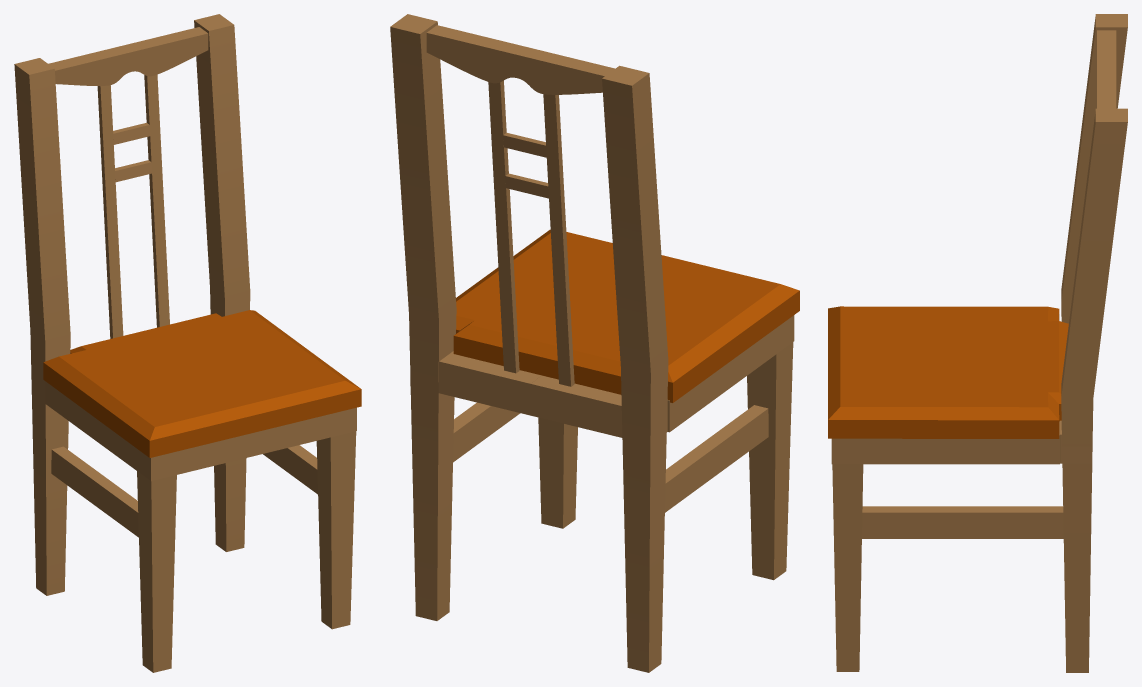
Rendered from chaiseOrange.obj.
3 views of the same model, side by side, from view 1: azimuth 30°, elevation 25°; view 2: azimuth 150°, elevation 25°; view 3: azimuth 270°, elevation 25° (orthographic). The views are drawn at different scales.
Visible parts, largest first — view 1: CHAIRS_SKELETON, CHAIRS_SEAT; view 2: CHAIRS_SKELETON, CHAIRS_SEAT; view 3: CHAIRS_SKELETON, CHAIRS_SEAT.
Boxes of the visible parts, x1,y1,x2,y2 form: CHAIRS_SKELETON: [14, 14, 356, 672]; CHAIRS_SEAT: [43, 310, 361, 457]; CHAIRS_SKELETON: [390, 14, 794, 672]; CHAIRS_SEAT: [453, 229, 799, 402]; CHAIRS_SKELETON: [831, 14, 1127, 672]; CHAIRS_SEAT: [828, 306, 1068, 438].
Bounding box in the file's own units: 41.23 × 95 × 46.7.
